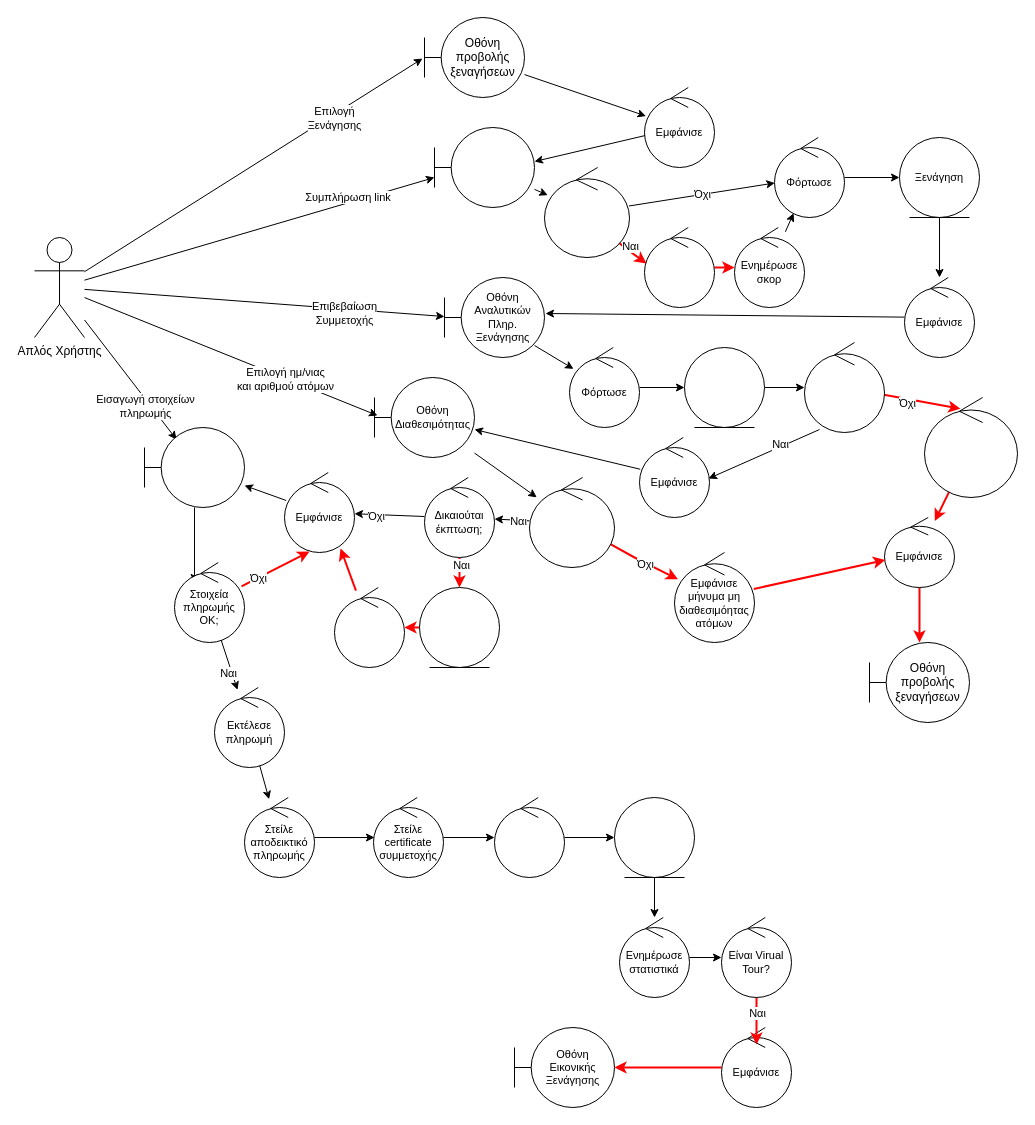
The diagram is 1035 pixels wide and 1125 high, and some of its shapes have lost their labels. The shapes that lost their labels are listed below. From the top down, each one's centre as x and y in pixels, then its label:
At point 484,167: "Οθόνη συμπλήρωση invite lnk".
At point 587,212: "Συμπληρώθηκε link?".
At point 679,267: "Link OK?".
At point 724,387: "Διεθέσιμες ημερ/νιες και ώρες".
At point 844,387: "Υπάρχει διαθεσιμότητα".
At point 194,467: "Οθόνη Πληρωμής".
At point 971,447: "Εμφάνισε μήνυμα μη διαθεσιμότητας".
At point 571,522: "Υπάρχει διαθεσιμότητα;".
At point 369,627: "Εφάρμοσε έκπτωση".
At point 459,627: "Έκπτωση".
At point 529,837: "Αποθήκευσε".
At point 654,837: "Συμμετοχή Χρήστη".
